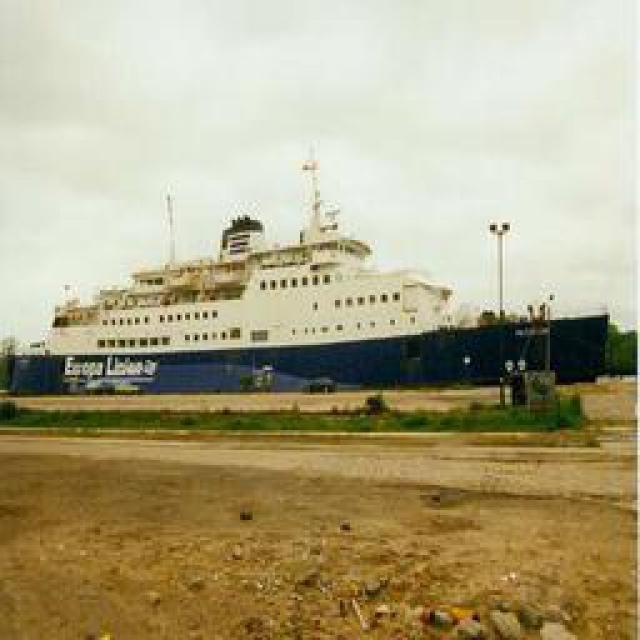Ship: (43, 140, 478, 388)
